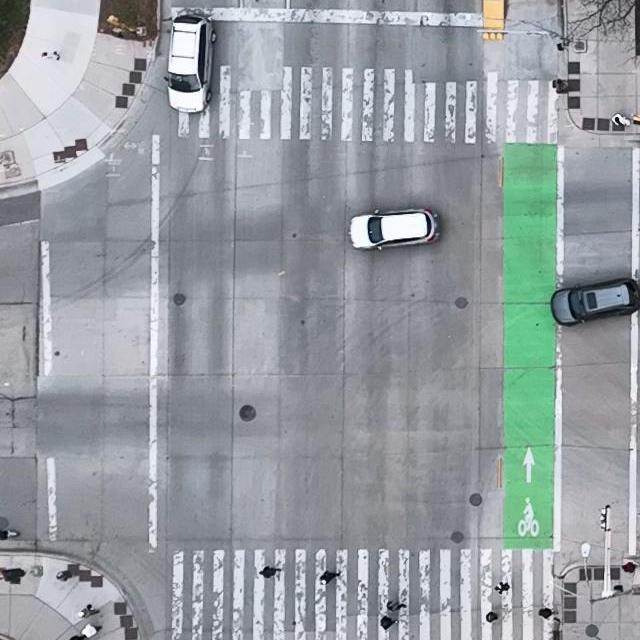car: (163, 13, 216, 113), (549, 277, 640, 327), (350, 208, 438, 250)
